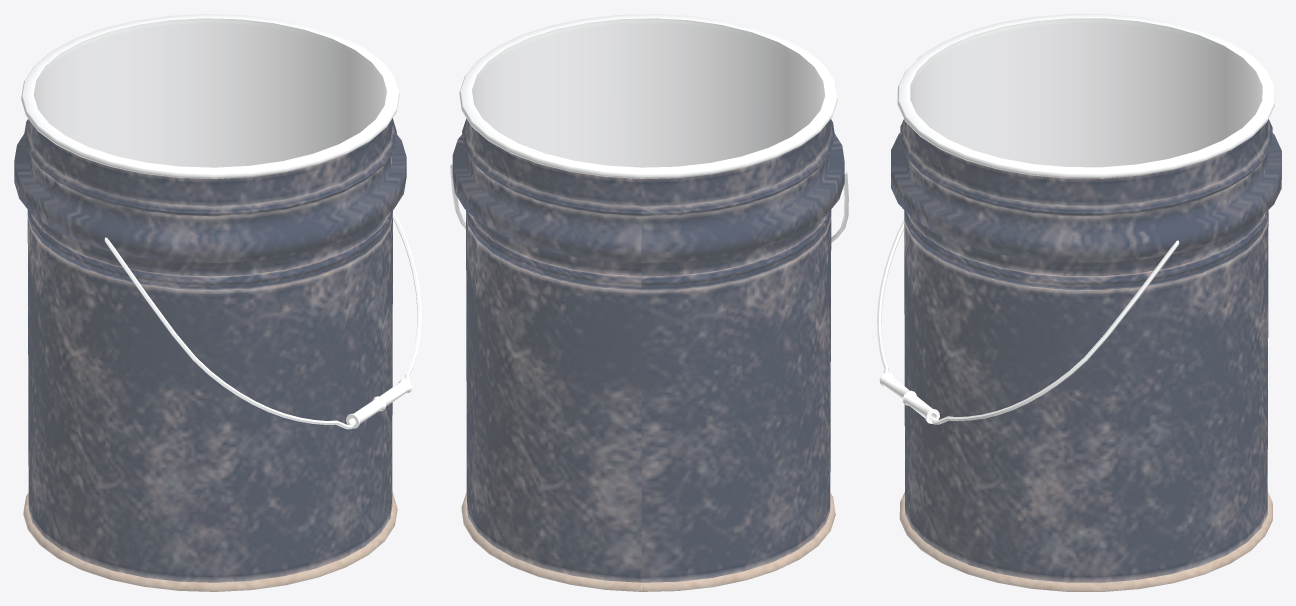
Rendered from Bucket 1.fbx.
3 renders of one model, left to right at view 1: azimuth 30°, elevation 25°; view 2: azimuth 150°, elevation 25°; view 3: azimuth 270°, elevation 25°, orthographic.
Visible parts, largest first — view 1: Bucket.001, Bucket.002; view 2: Bucket.001, Bucket.002; view 3: Bucket.001, Bucket.002.
Boxes of the visible parts, x1,y1,x2,y2 form: Bucket.001: (14,14,412,591); Bucket.002: (104,211,421,429); Bucket.001: (452,14,844,591); Bucket.002: (450,163,848,242); Bucket.001: (879,14,1281,591); Bucket.002: (877,219,1179,424).
Size of the model in its own units: 640 by 718 by 626.
